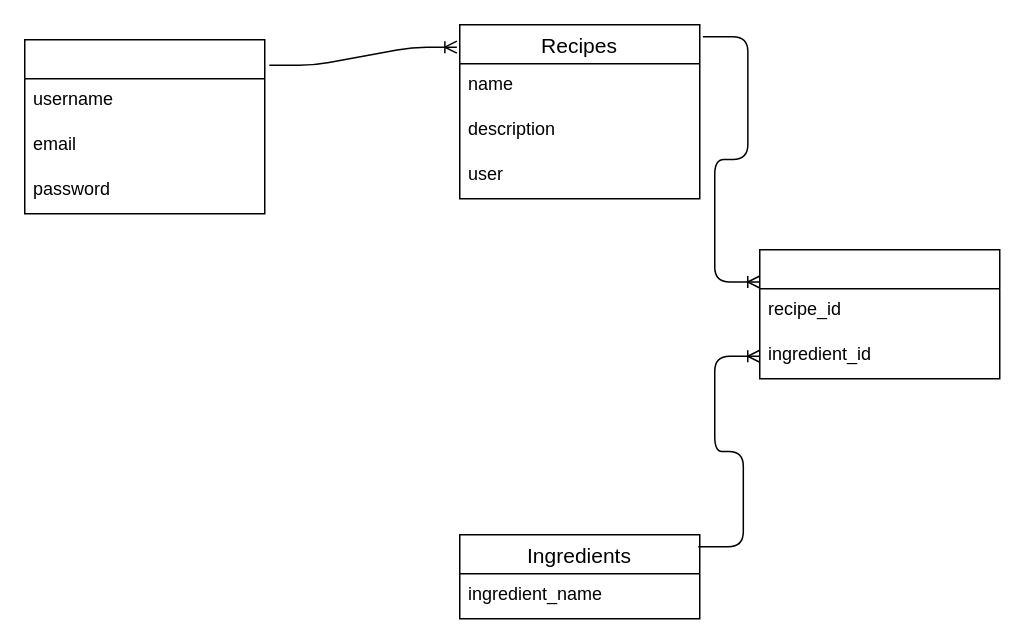
Image size: 1025x644. Some labels were removed from this diagram. The box of each missing label's shape, as (x1, y1, x2, y2) in pixels:
RecipeIngredients: (758, 248, 1000, 379)
Users: (23, 38, 265, 214)
